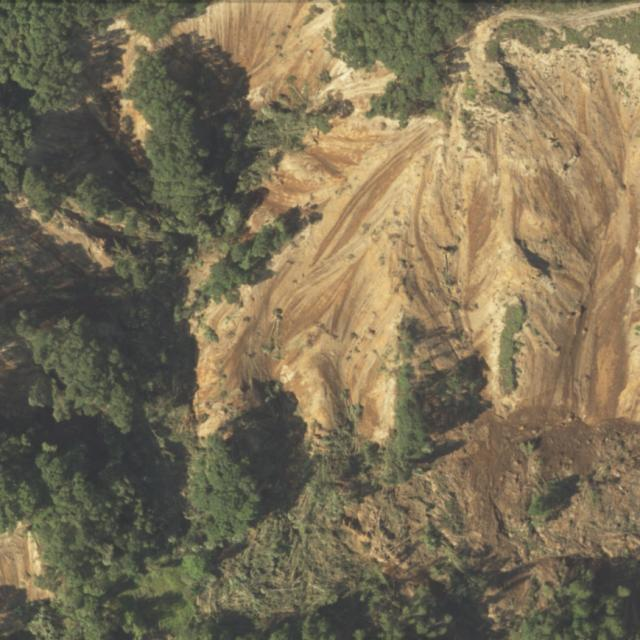landslide: (172, 1, 640, 441), (341, 411, 640, 640)
